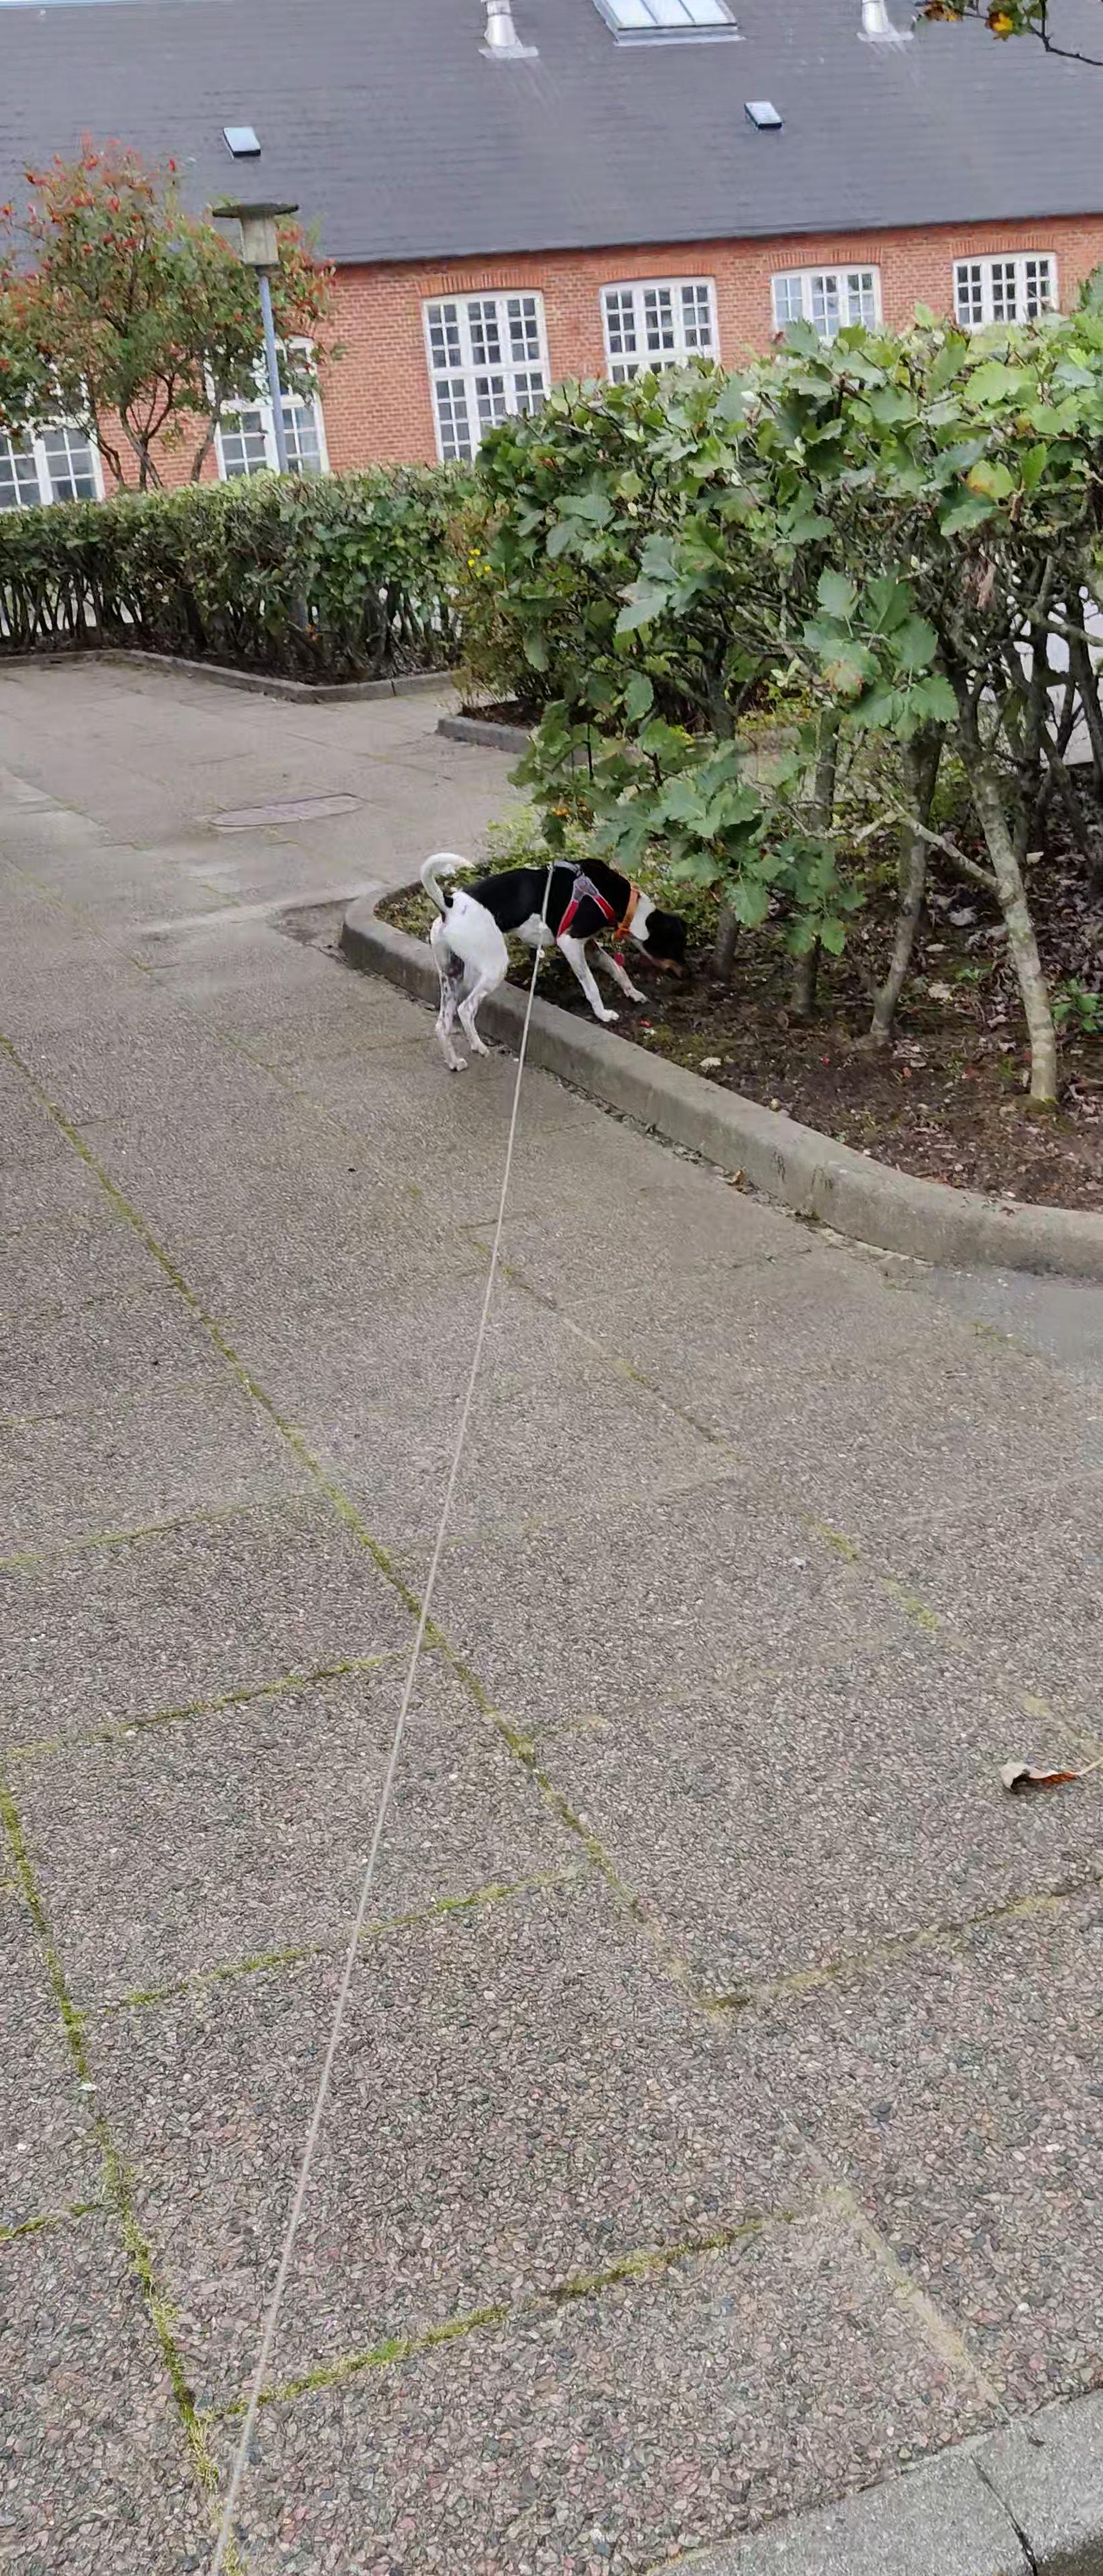Dog: (414, 846, 699, 1076)
